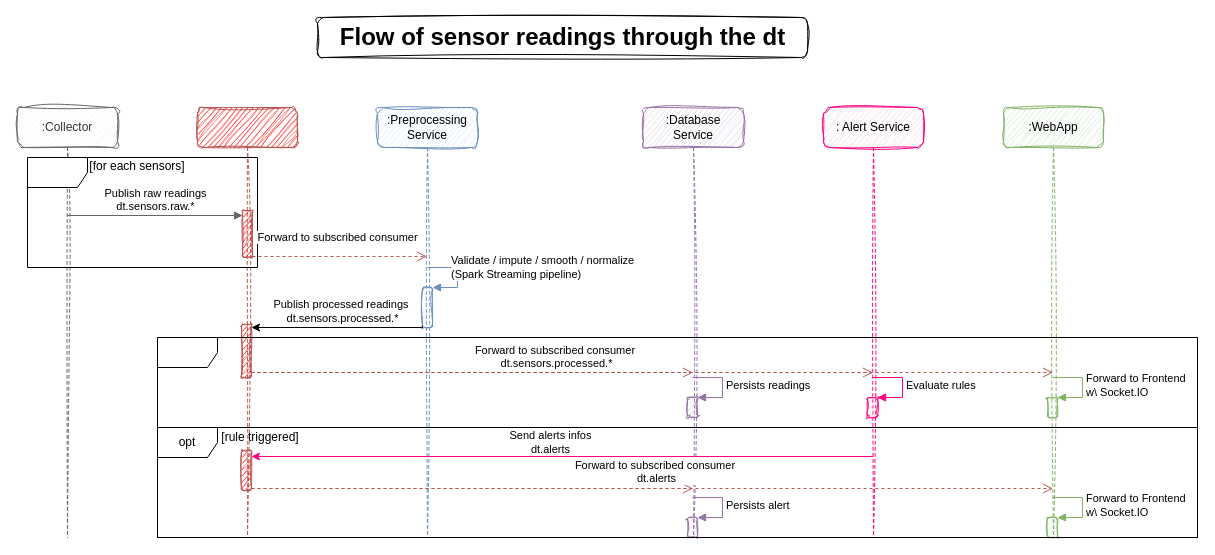
This 1215x555 diagram has some shape labels left out. The box of each missing label's shape, as (x1, y1, x2, y2) in pixels:
:Kafka: (196, 106, 298, 538)
loop: (26, 156, 258, 268)
par: (156, 336, 1198, 538)
